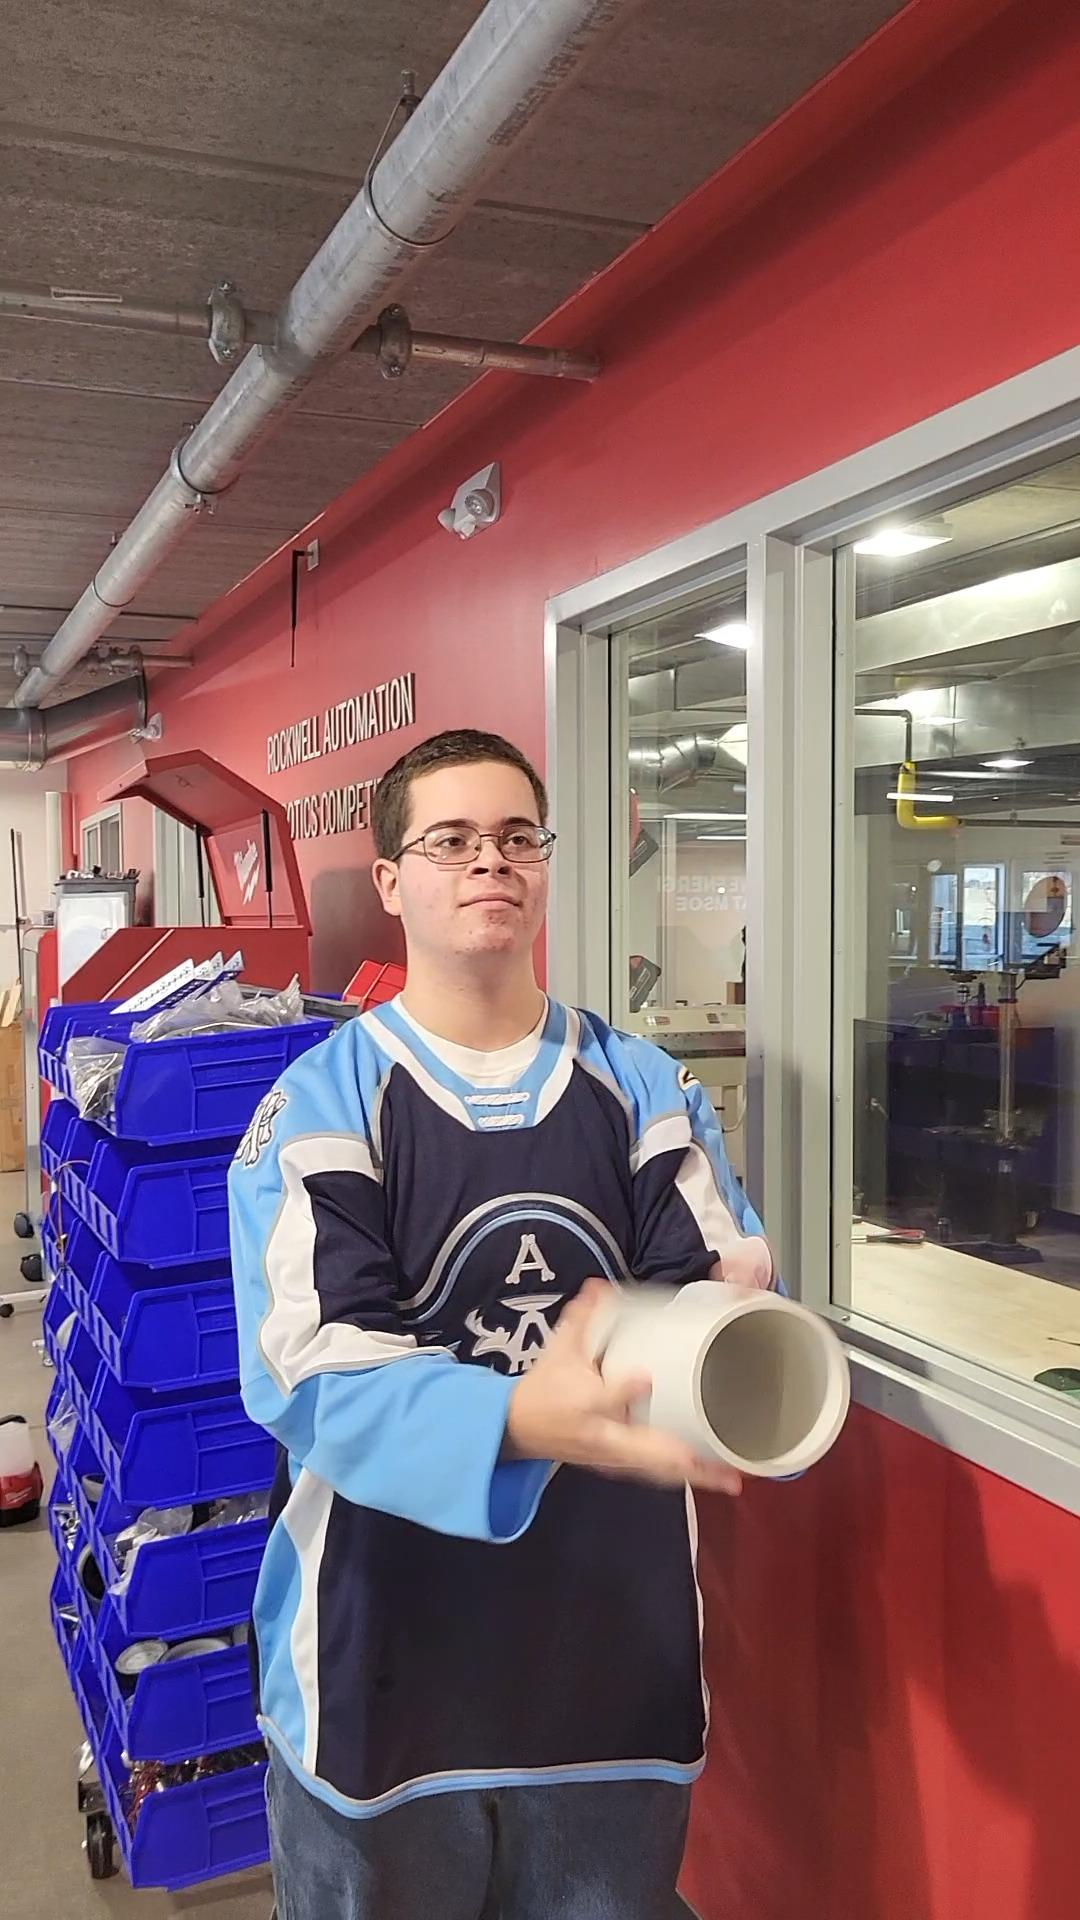coral: (576, 1267, 853, 1477)
